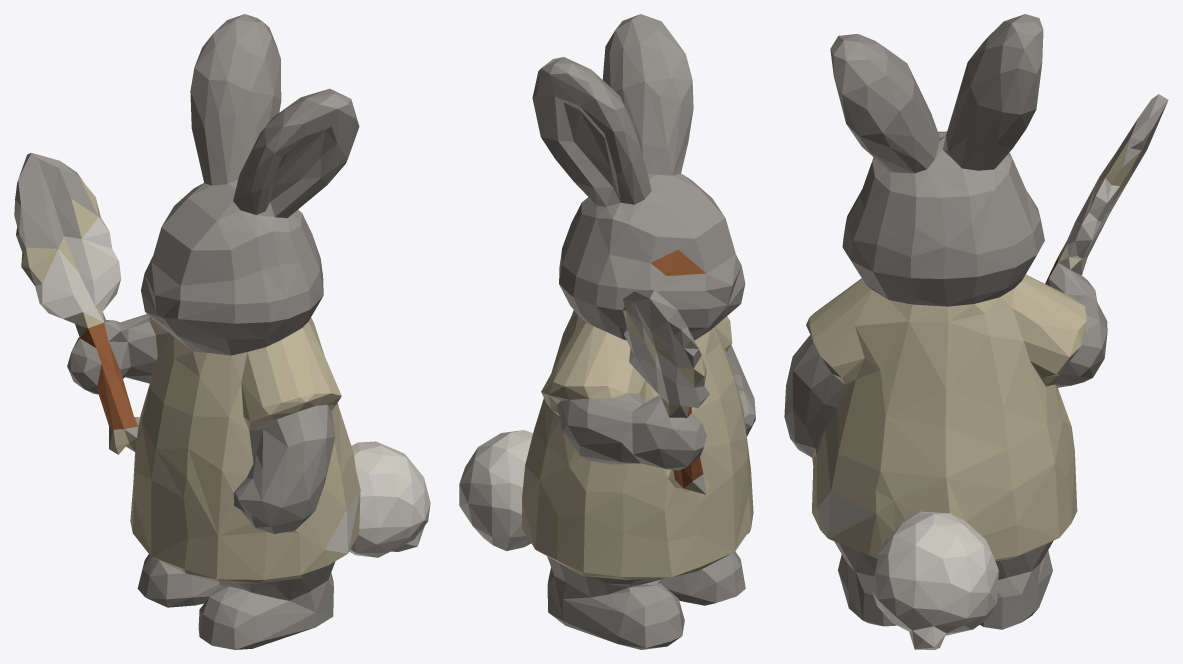
3 views of the same model, side by side, from view 1: azimuth 30°, elevation 25°; view 2: azimuth 150°, elevation 25°; view 3: azimuth 270°, elevation 25° (orthographic). The views are drawn at different scales.
Parts seen in each view (by area): view 1: lion-1500.001; view 2: lion-1500.001; view 3: lion-1500.001.
Part boxes in pixels (x1,y1,x2,y2): lion-1500.001: (14,14,430,649); lion-1500.001: (459,14,755,649); lion-1500.001: (784,14,1168,649).
Size of the model in its own units: 0.6149 by 1.03 by 0.5954.
